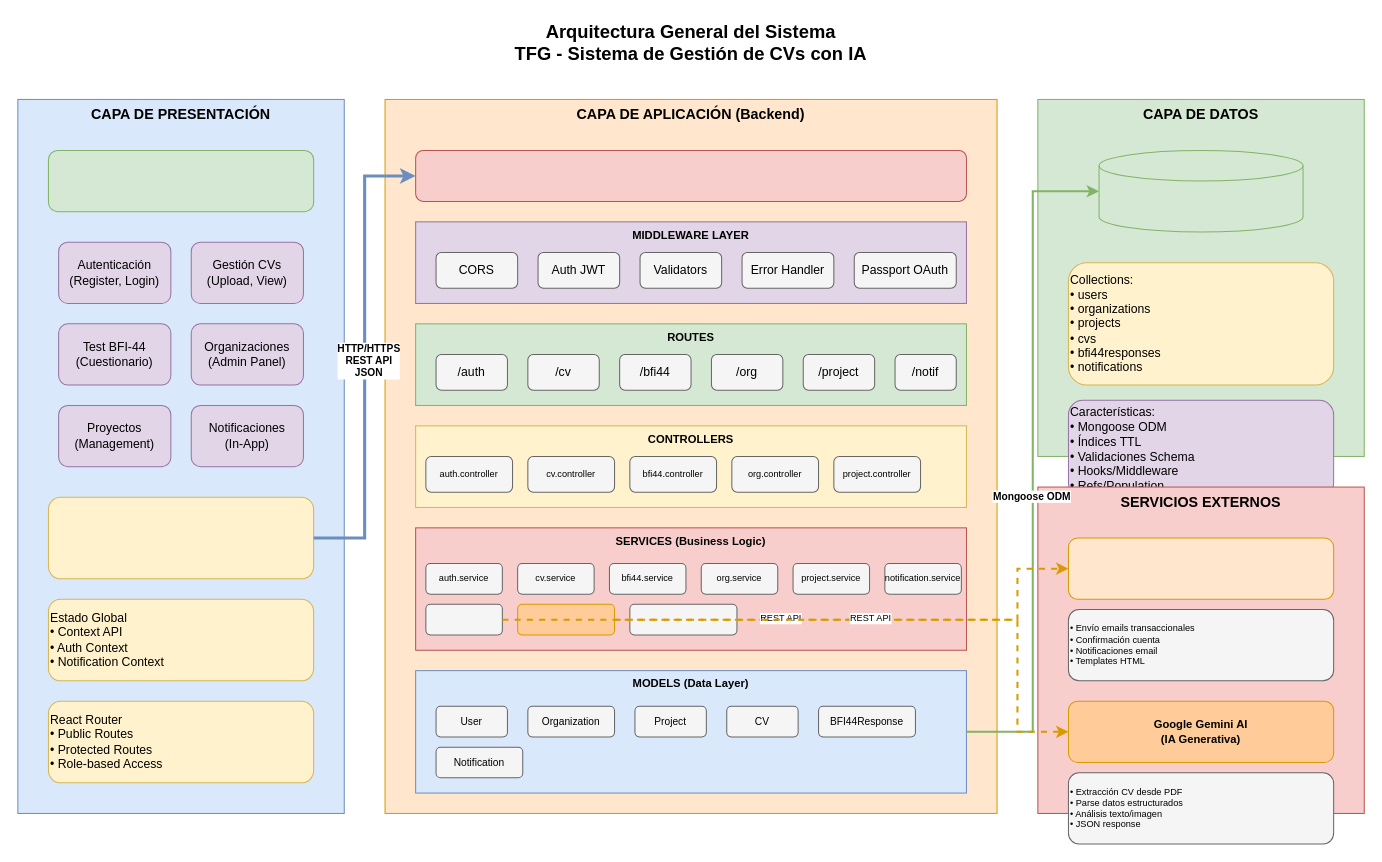
Image size: 1382x862. Some labels were removed from this diagram. The shapes that lost their labels are listed below. From the top down, each one's centre as x and y in pixels, then its label:
At point (180, 180): "React Application (Frontend)".
At point (690, 175): "Express.js Server Node.js Runtime".
At point (1200, 190): "MongoDB Atlas (Cloud Database)".
At point (180, 537): "API Client (Axios) • Interceptores • Auth Headers • Error Handling".
At point (1200, 568): "Brevo API (Email Service)".
At point (463, 619): "email.service".
At point (566, 619): "aiExtractor.service".
At point (683, 619): "Notification Helpers".
